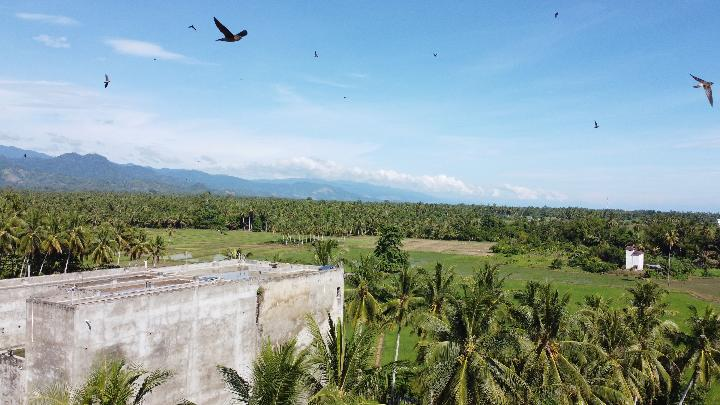walet: (212, 15, 251, 43), (687, 72, 715, 107)
